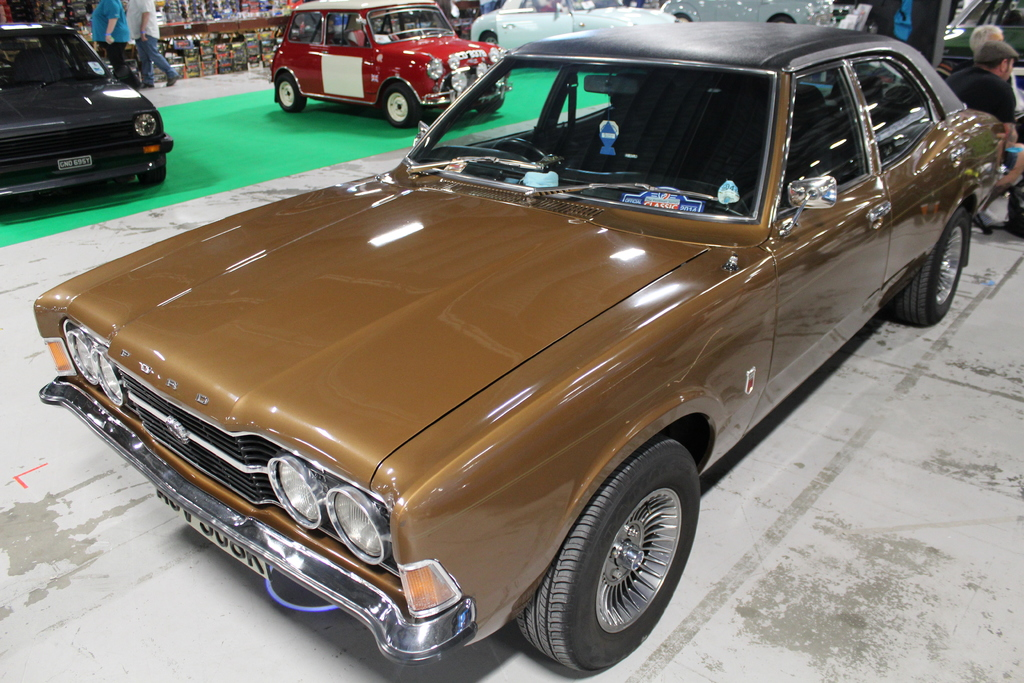car: (34, 12, 1011, 682), (240, 1, 515, 135), (1, 17, 181, 212)
